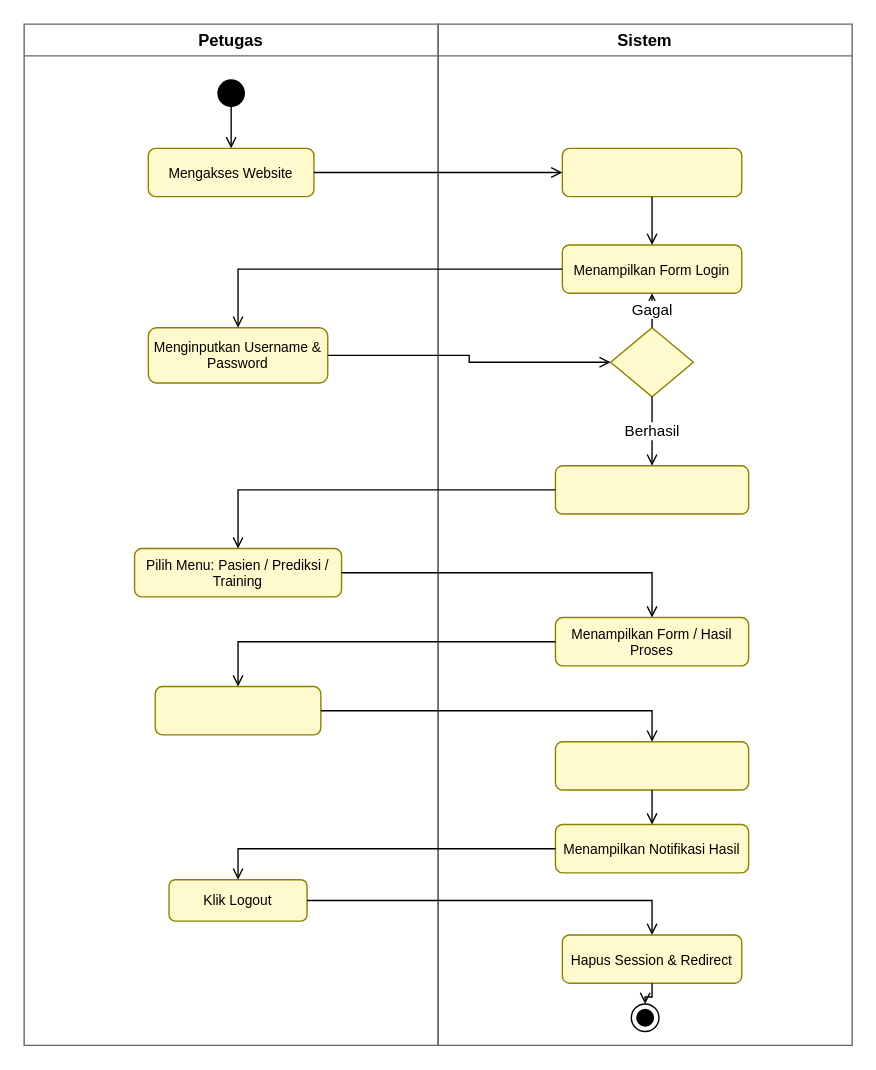
Some shapes in this 876 by 1070 pixel diagram are drawn without their labels. The shapes that lost their labels are listed below. From the top down, each one's centre as x and y in pixels, then its label:
At [651,172]: "Menampilkan Halaman Utama".
At [651,361]: "Valid?".
At [651,489]: "Menampilkan Dashboard Petugas".
At [237,710]: "Isi Form / Jalankan Aksi".
At [651,765]: "Memproses & Update Database".
